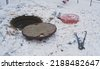open_manhole: (7, 16, 45, 26)
